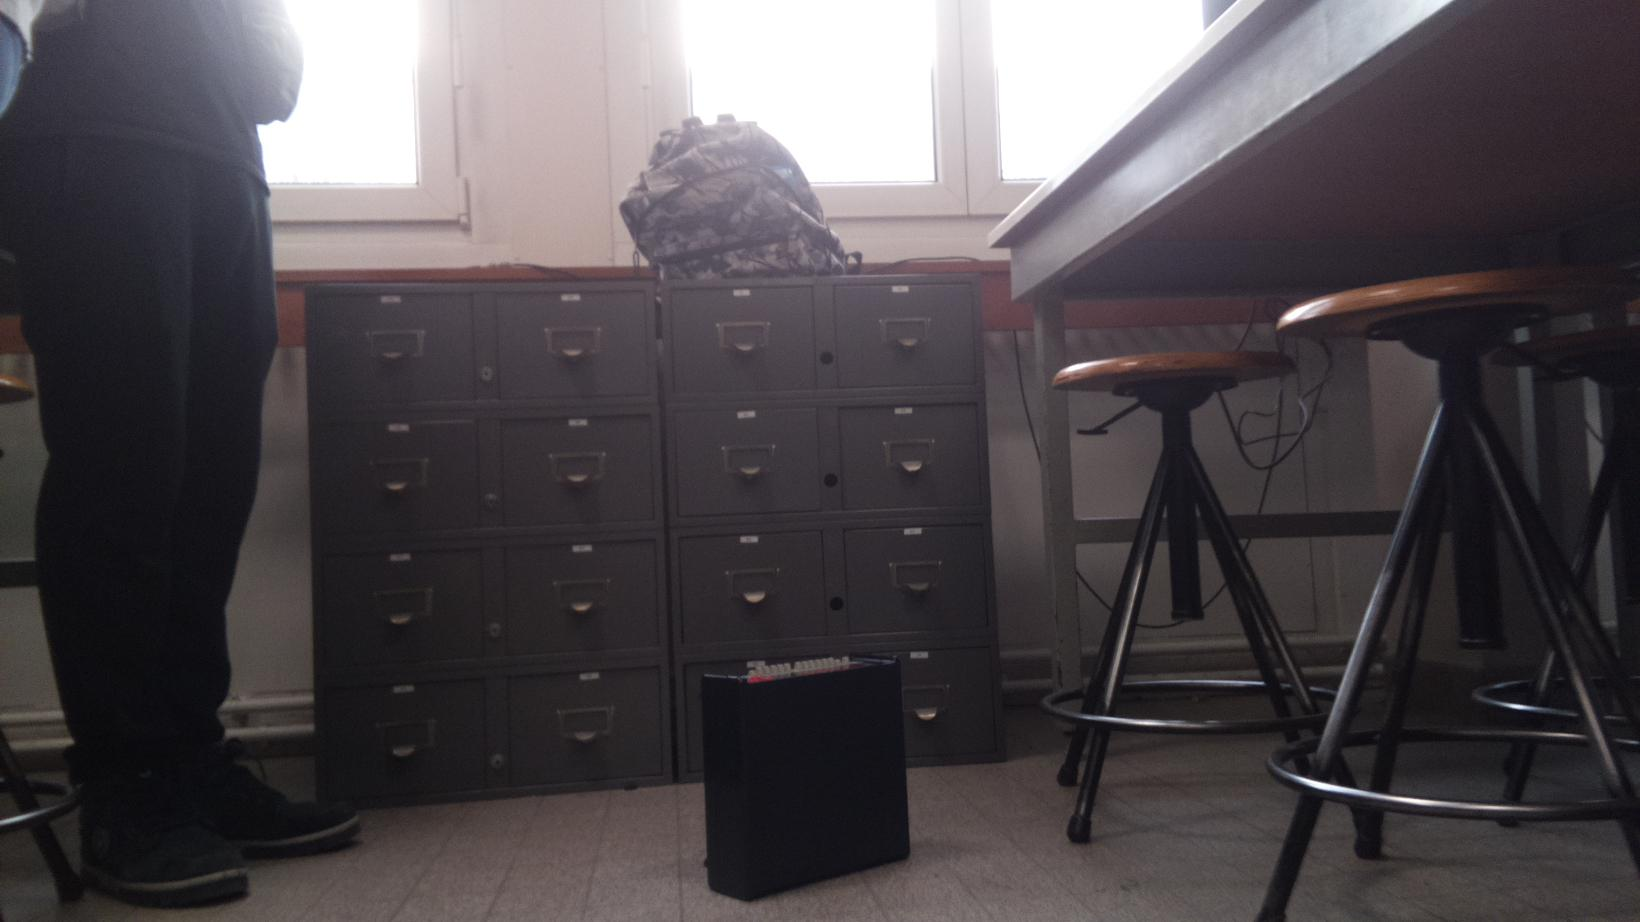big: (625, 117, 852, 279)
medium: (706, 654, 909, 884)
